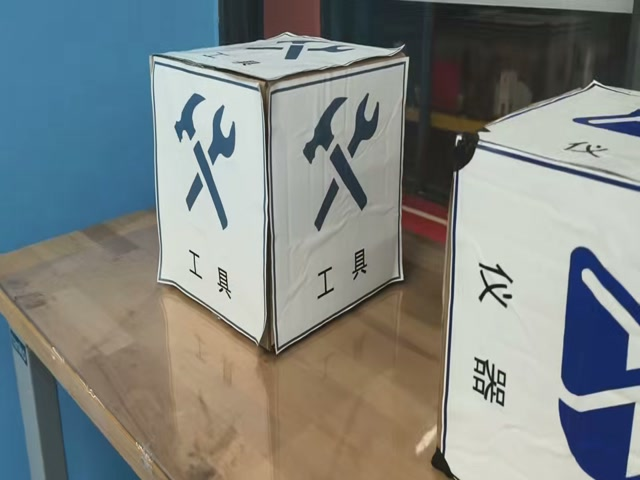Cube_ins: (454, 69, 640, 208)
Cube_tool: (153, 30, 407, 90)
